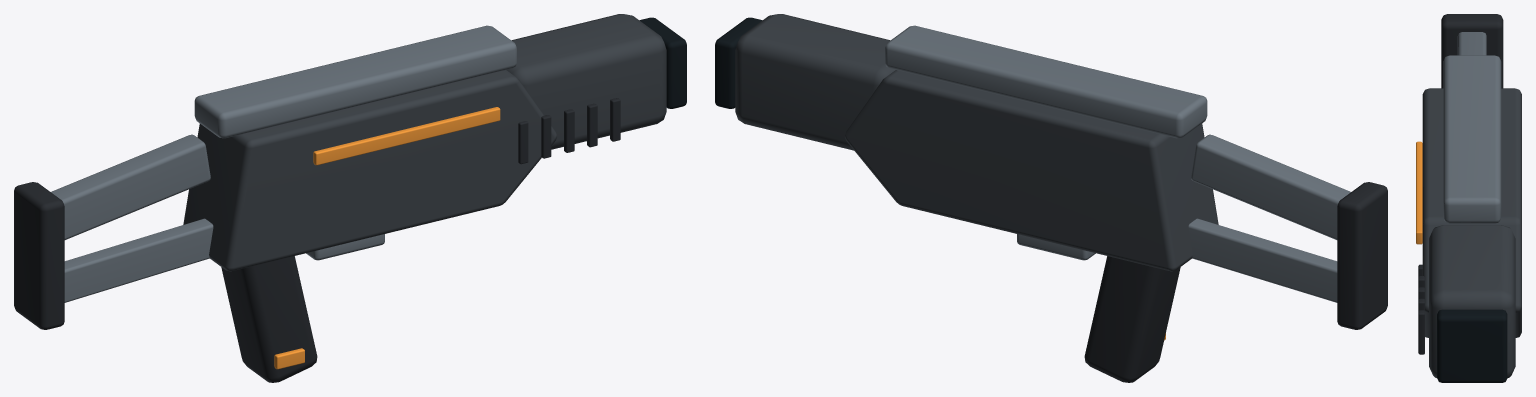
3 views of the same model, side by side, from view 1: azimuth 30°, elevation 25°; view 2: azimuth 150°, elevation 25°; view 3: azimuth 270°, elevation 25° (orthographic).
Parts seen in each view (by area): view 1: E01__Body, E01__Upper_spine, E01__Front_shell, E01__Grip, E01__Rear_upper, E01__Rear_pad, E01__Rear_lower, E01__Amber_inlay, E01, E01__Sealed_front, E01__Lower_guard; view 2: E01__Body, E01__Front_shell, E01__Upper_spine, E01__Grip, E01__Rear_upper, E01__Rear_pad, E01__Rear_lower, E01__Sealed_front, E01__Lower_guard; view 3: E01__Upper_spine, E01__Front_shell, E01__Body, E01__Sealed_front, E01__Rear_pad, E01__Amber_inlay, E01__Rear_upper, E01.
Part boxes in pixels (x1=…): E01__Body: x1=183, y1=70, x2=556, y2=271; E01__Upper_spine: x1=194, y1=25, x2=516, y2=138; E01__Front_shell: x1=506, y1=14, x2=666, y2=149; E01__Grip: x1=221, y1=256, x2=317, y2=382; E01__Rear_upper: x1=51, y1=134, x2=210, y2=239; E01__Rear_pad: x1=14, y1=182, x2=64, y2=329; E01__Rear_lower: x1=64, y1=218, x2=213, y2=302; E01__Amber_inlay: x1=313, y1=107, x2=500, y2=165; E01: x1=518, y1=98, x2=620, y2=164; E01__Sealed_front: x1=639, y1=17, x2=686, y2=108; E01__Lower_guard: x1=306, y1=234, x2=384, y2=260; E01__Body: x1=845, y1=70, x2=1218, y2=271; E01__Front_shell: x1=735, y1=14, x2=895, y2=150; E01__Upper_spine: x1=885, y1=25, x2=1207, y2=138; E01__Grip: x1=1084, y1=256, x2=1180, y2=382; E01__Rear_upper: x1=1191, y1=134, x2=1350, y2=239; E01__Rear_pad: x1=1337, y1=182, x2=1387, y2=329; E01__Rear_lower: x1=1188, y1=218, x2=1337, y2=302; E01__Sealed_front: x1=715, y1=17, x2=762, y2=108; E01__Lower_guard: x1=1017, y1=234, x2=1095, y2=260; E01__Upper_spine: x1=1443, y1=55, x2=1501, y2=223; E01__Front_shell: x1=1429, y1=225, x2=1515, y2=378; E01__Body: x1=1422, y1=88, x2=1521, y2=337; E01__Sealed_front: x1=1437, y1=309, x2=1507, y2=382; E01__Rear_pad: x1=1441, y1=14, x2=1503, y2=88; E01__Amber_inlay: x1=1416, y1=141, x2=1422, y2=244; E01__Rear_upper: x1=1457, y1=32, x2=1486, y2=55; E01: x1=1418, y1=264, x2=1424, y2=354.
Bounding box in the file's own units: 0.9065 × 0.3803 × 0.128.
